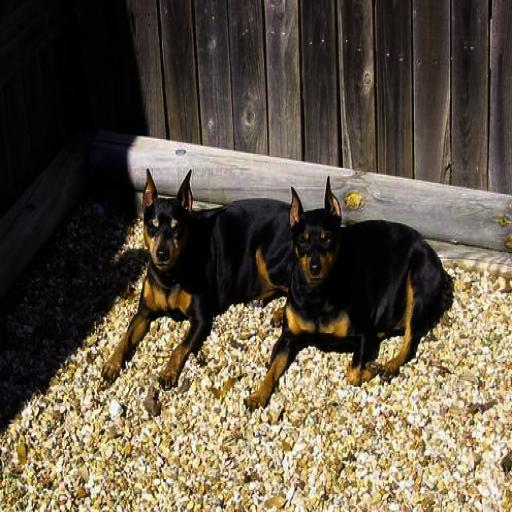dog_face: (281, 181, 347, 290), (142, 160, 195, 271)
